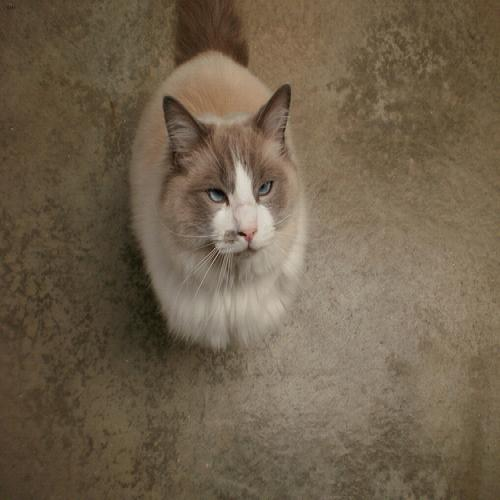ragdoll: (150, 82, 317, 283)
